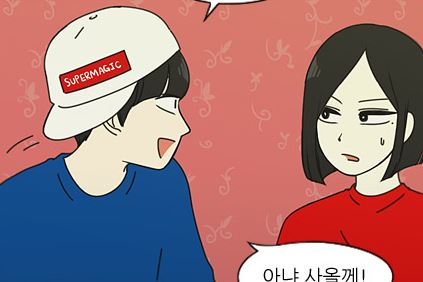hat: (38, 5, 188, 138)
